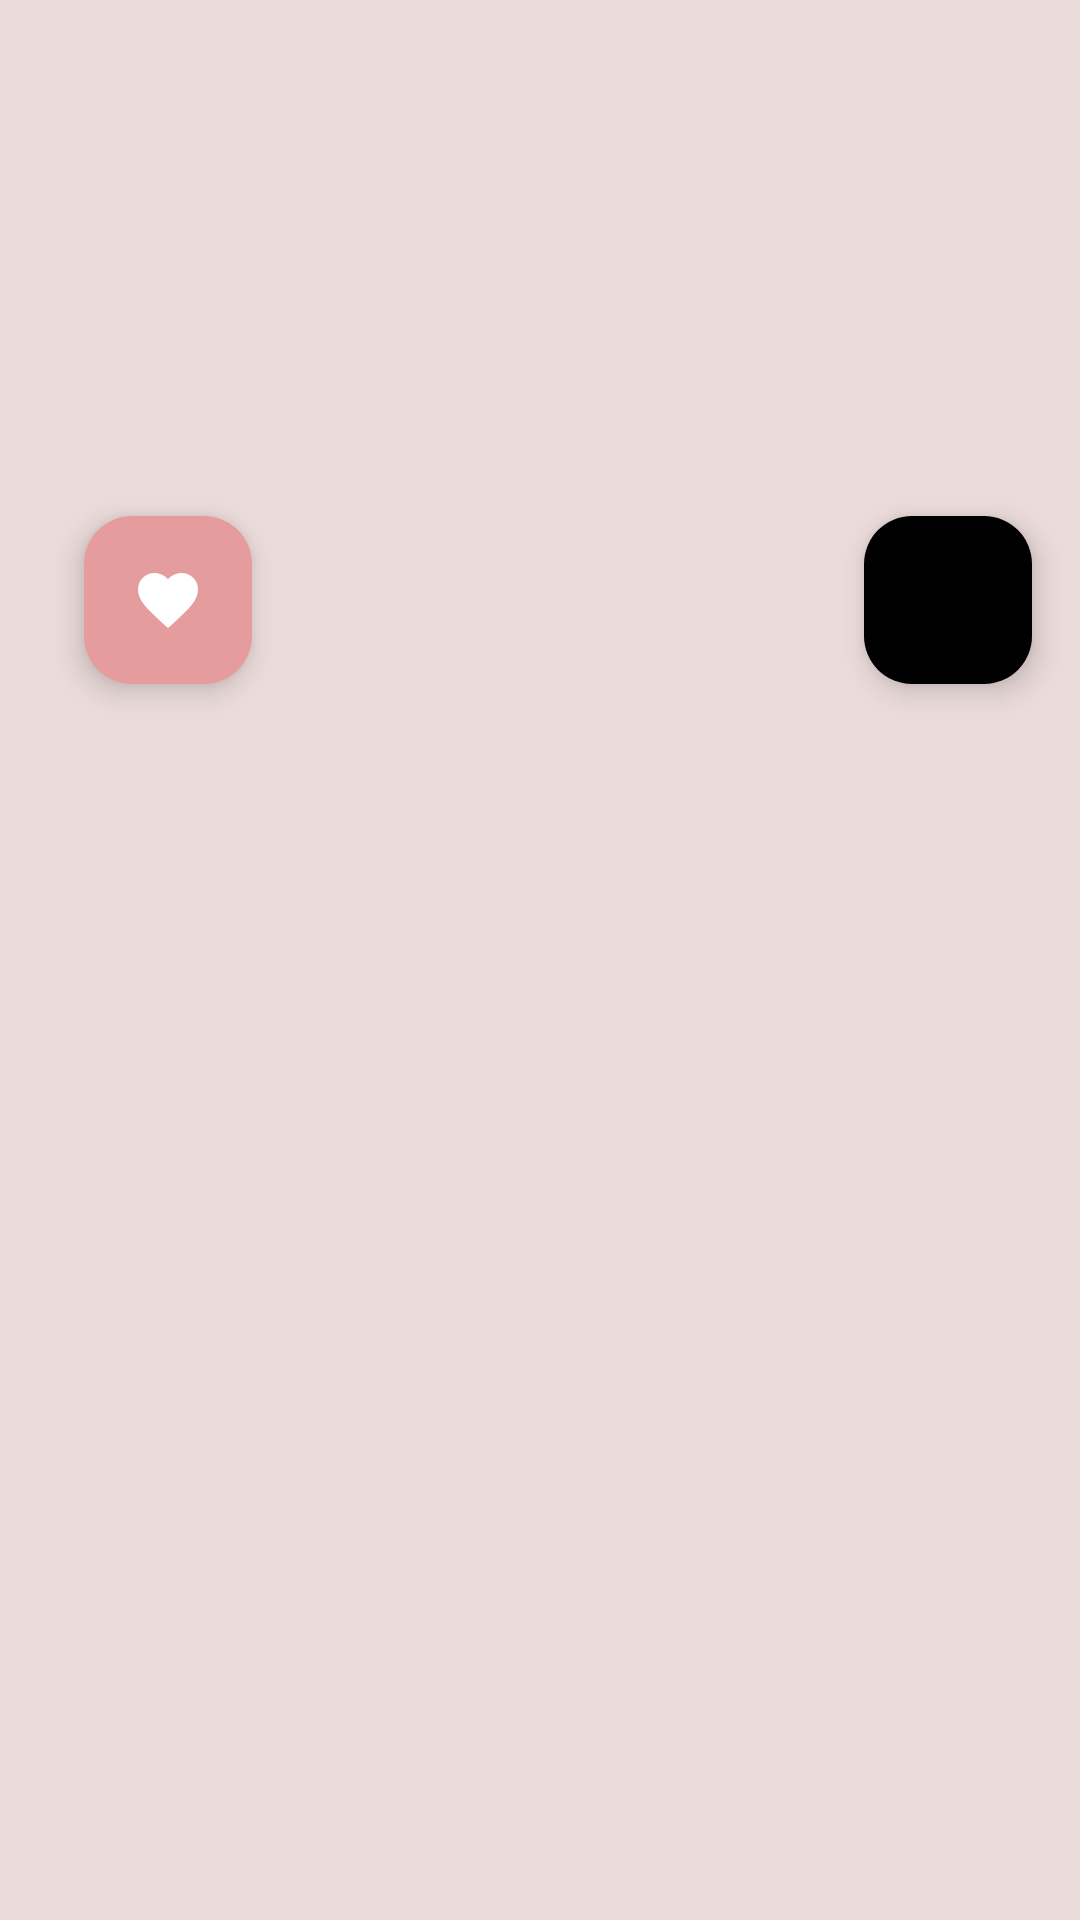

Screen size 1080*1920. Icon name, then its center in pixels as (x=x, y=y):
Details Favorite: (x=167, y=601)
